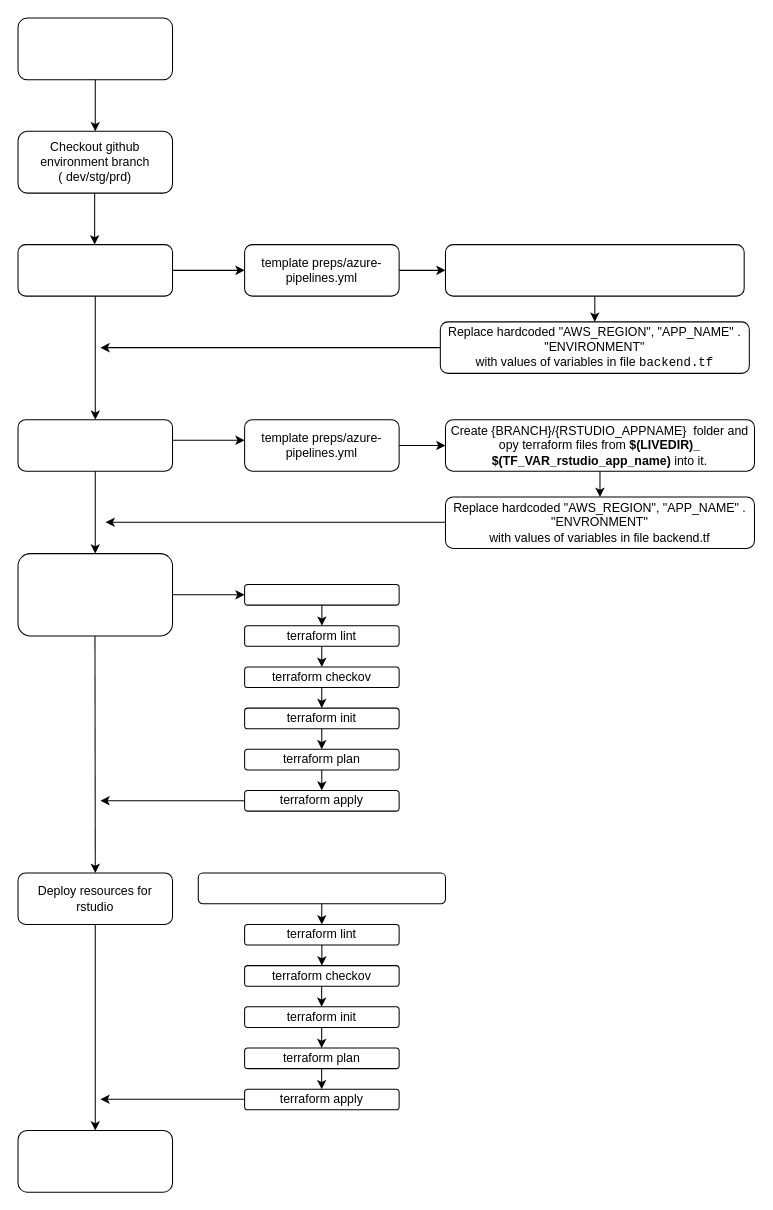
Some shapes in this 773 by 1210 pixel diagram are drawn without their labels. The shapes that lost their labels are listed below. From the top down, each one's centre as x and y in pixels, then its label:
At pixel 95 48: "Start Pipeline".
At pixel 95 270: "prepare aws account bootstrap".
At pixel 594 270: "Create {BRANCH} folder and copy terraform files from $LIVEDIR into it.".
At pixel 95 445: "prepare rstudio bootstrap".
At pixel 95 594: "Deploy resources in bootstrap".
At pixel 321 594: "cd into {BRANCH}".
At pixel 321 888: "cd into {BRANCH}/{RSTUDIO_APPNAME}".
At pixel 95 1160: "END Pipeline".
